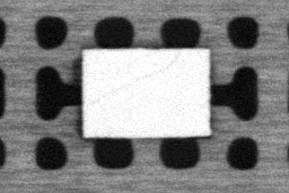DIE_CRACK: (87, 58, 178, 106)
